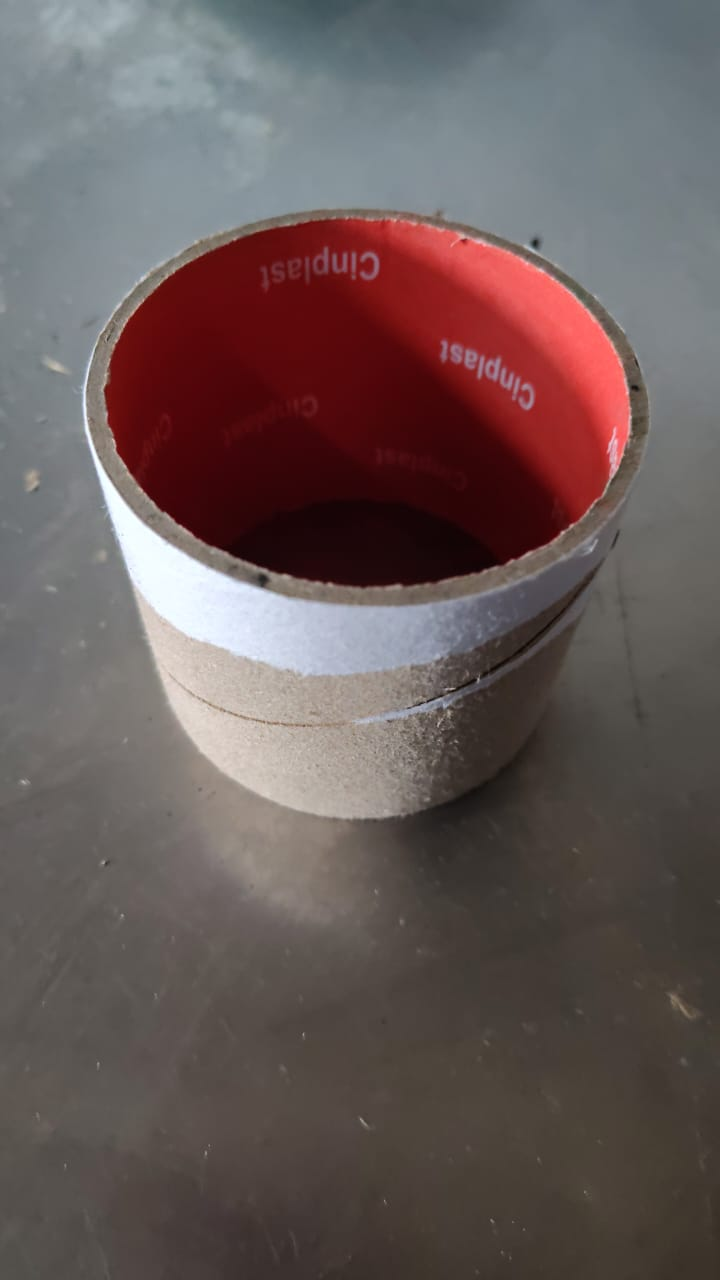Carton: (82, 204, 652, 821)
